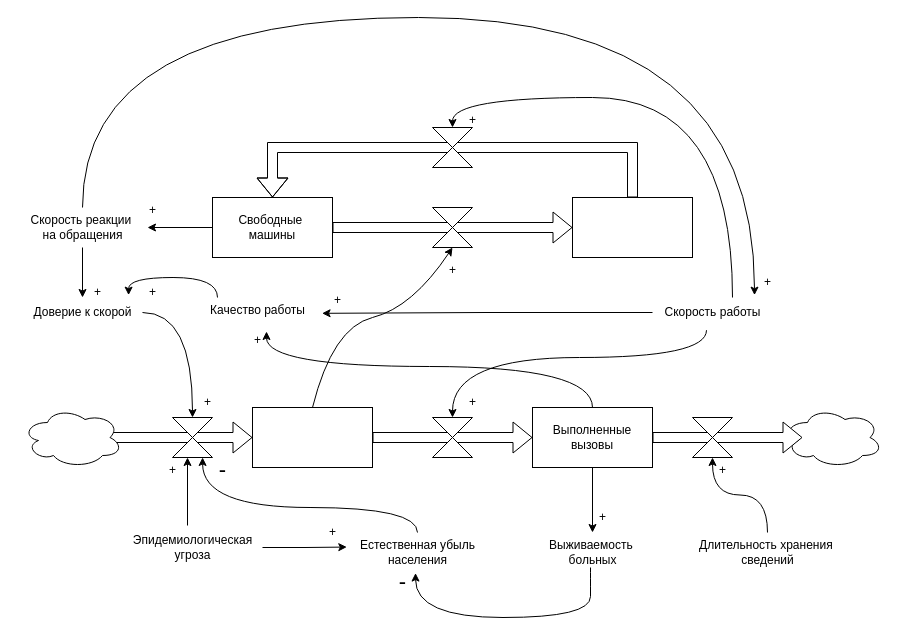
Image size: 900x635. Some labels were removed from this diagram. Each missing label, with the centre of its shape:
"Актуальные вызовы" goes at (x=312, y=437).
"Машины на вызове" goes at (x=632, y=227).
